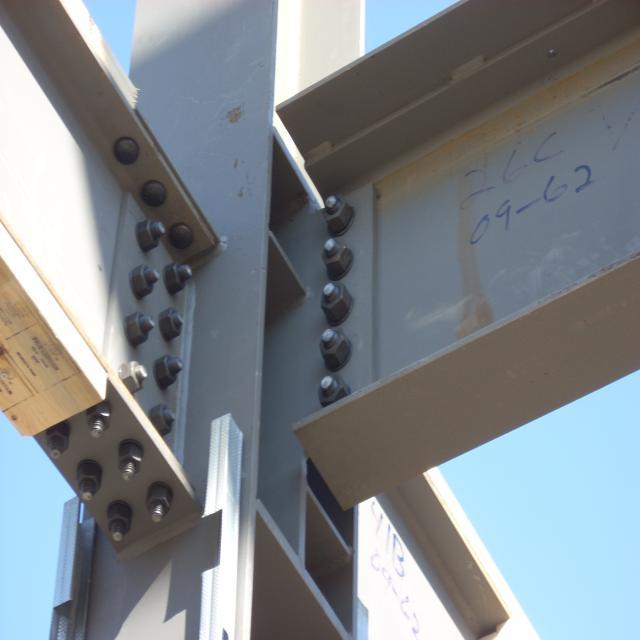bolt nut: (316, 328, 352, 368), (319, 281, 353, 322), (320, 192, 354, 232), (320, 237, 352, 278), (316, 374, 350, 410), (74, 462, 102, 500), (115, 440, 143, 477), (129, 261, 156, 299), (83, 400, 112, 435), (145, 485, 173, 521), (104, 503, 132, 539), (43, 422, 70, 457), (135, 216, 161, 252), (126, 309, 150, 348), (121, 359, 146, 396), (160, 304, 183, 342), (155, 352, 178, 390), (164, 258, 188, 294), (150, 402, 173, 438)
